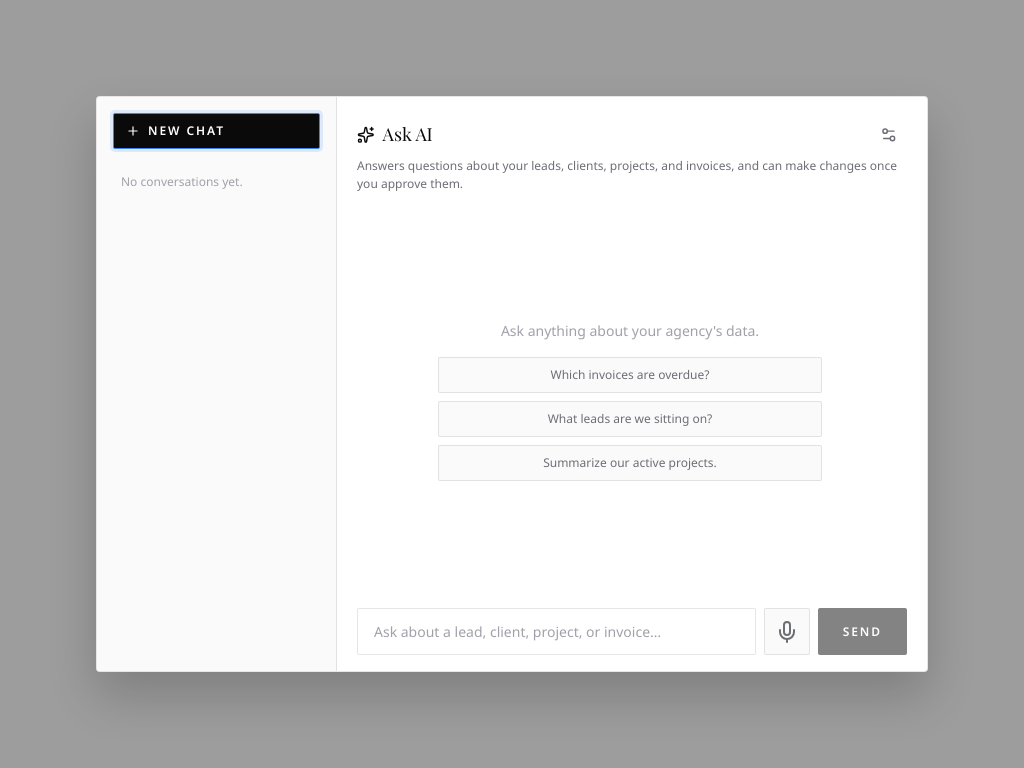
Test: AiModal › settings › saves a change straight away and reflects it in the header copy
The image size is (1024, 768).
Expected: the text "can make changes once you approve them" is shown, left=357, top=157, right=897, bottom=192
Click the button named "AI settings": (889, 135) left=871, top=117, right=907, bottom=153
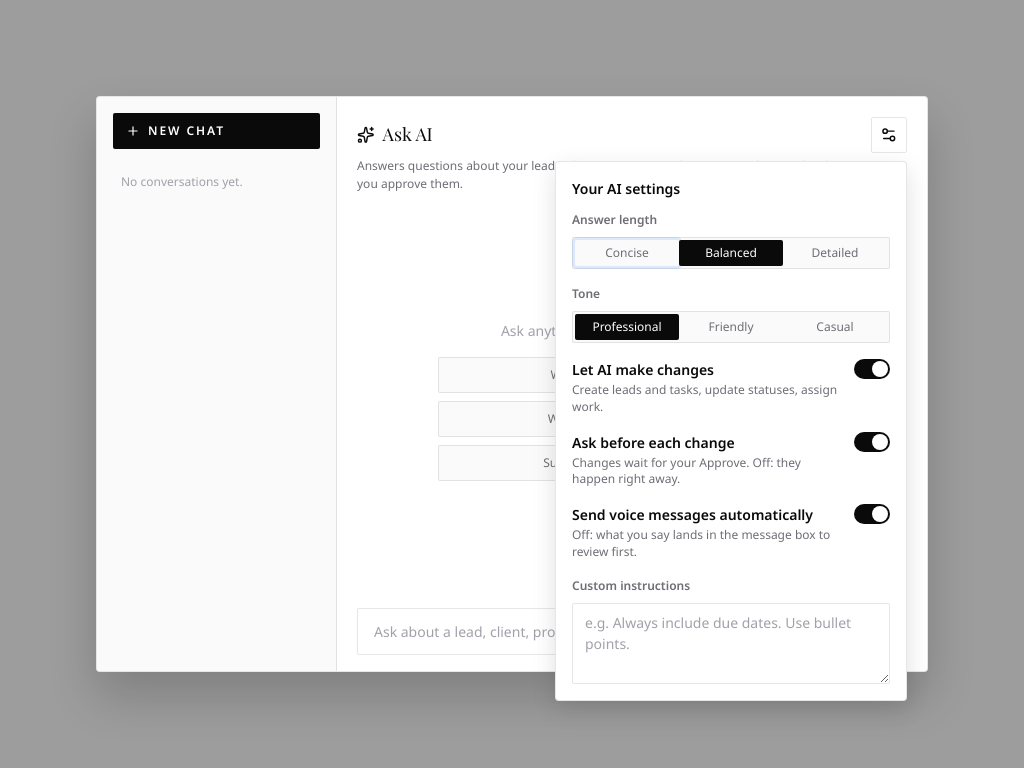
Click the switch named "Let AI make changes" next to "Let AI make changes": (872, 369) left=854, top=359, right=890, bottom=379
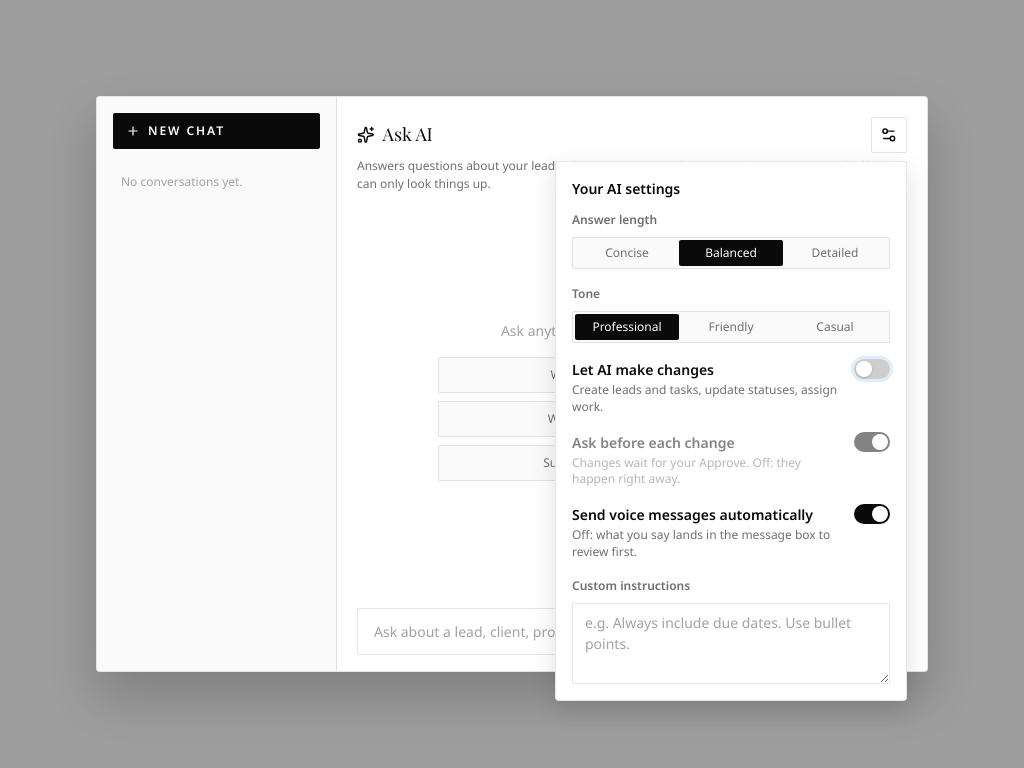
Now the text "Changes are turned off" is shown, box left=357, top=157, right=894, bottom=192
